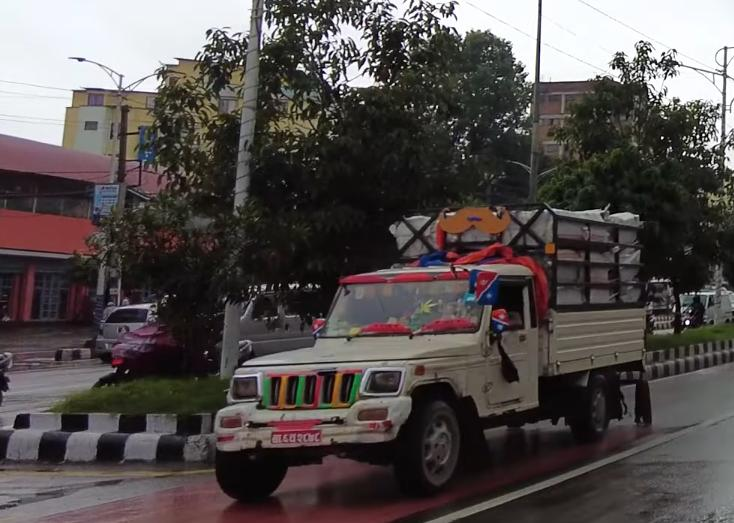car: (90, 295, 171, 360)
micro_bus: (206, 276, 336, 372)
scooter: (676, 289, 710, 333)
transport_vehicle: (195, 184, 658, 515)
